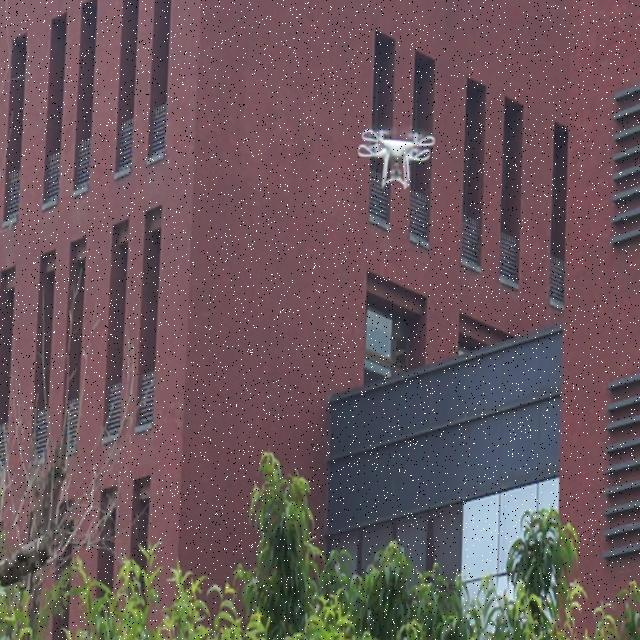UAV: (357, 129, 436, 189)
